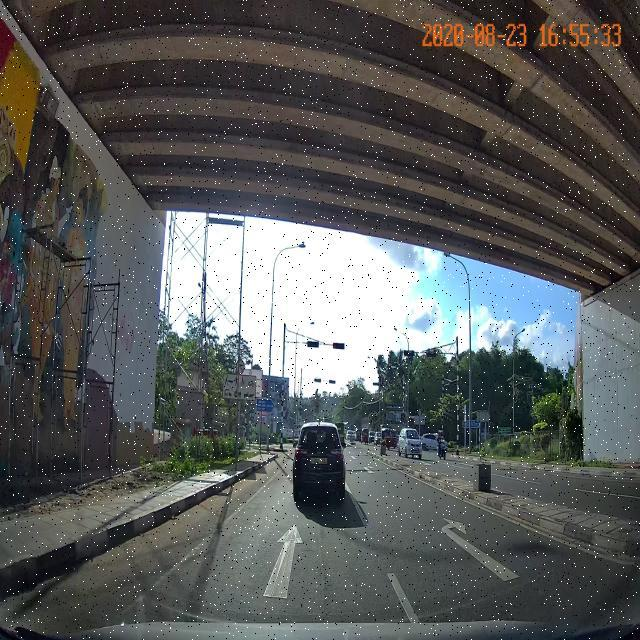forward: (95, 515, 420, 620)
